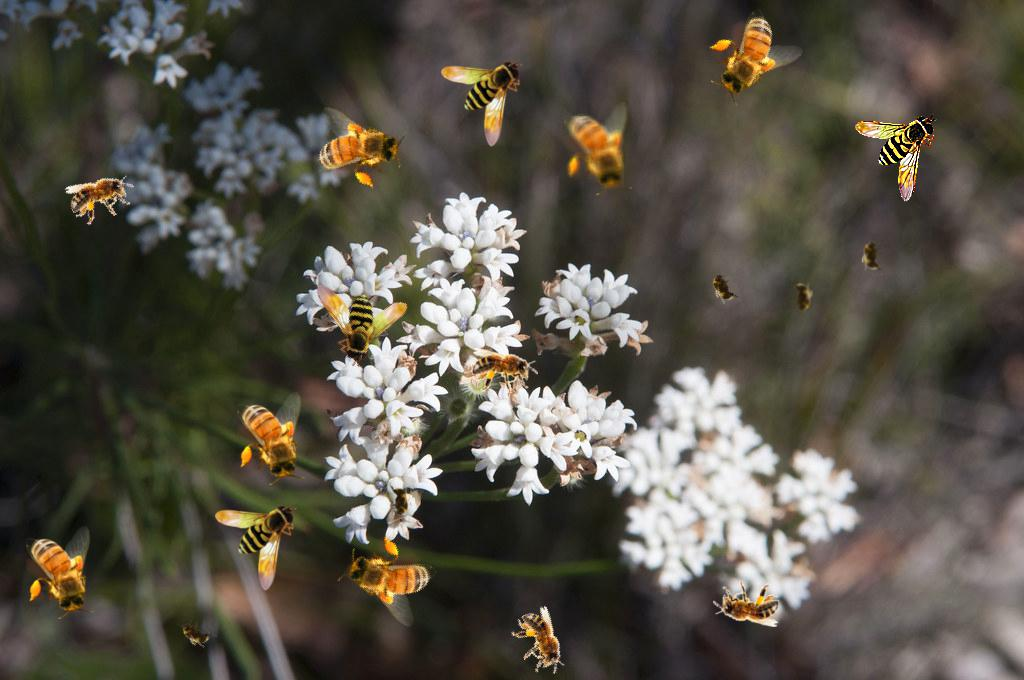Bee: (294, 249, 416, 371), (692, 0, 808, 111), (332, 522, 448, 633), (301, 101, 413, 198), (441, 59, 523, 147), (215, 503, 297, 591), (855, 114, 937, 202), (564, 102, 632, 195), (26, 526, 94, 619), (237, 392, 305, 485), (505, 603, 577, 680), (62, 162, 142, 231), (472, 348, 538, 393), (713, 582, 779, 627), (172, 612, 218, 654), (704, 264, 742, 310), (861, 235, 883, 275), (389, 482, 411, 522), (791, 278, 813, 318)
